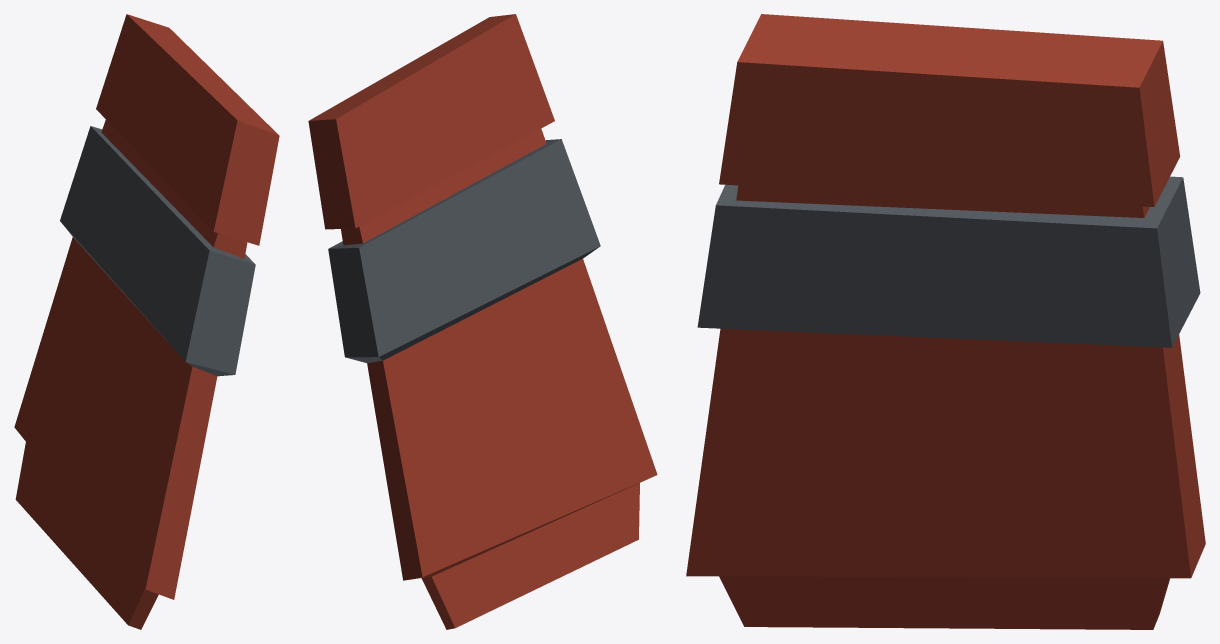
File: Dropship_01_Flap_Left_Red.fbx
3 views of the same model, side by side, from view 1: azimuth 30°, elevation 25°; view 2: azimuth 150°, elevation 25°; view 3: azimuth 270°, elevation 25° (orthographic). The views are drawn at different scales.
Parts seen in each view (by area): view 1: Dropship_01_Flap_Left_Red; view 2: Dropship_01_Flap_Left_Red; view 3: Dropship_01_Flap_Left_Red.
Part boxes in pixels (left/top/right/bottom): Dropship_01_Flap_Left_Red: left=14, top=14, right=279, bottom=629; Dropship_01_Flap_Left_Red: left=308, top=14, right=657, bottom=629; Dropship_01_Flap_Left_Red: left=686, top=14, right=1205, bottom=629.
Bounding box in the file's own units: 119 × 306 × 211.
Materials: 1 (1 with a texture image).
